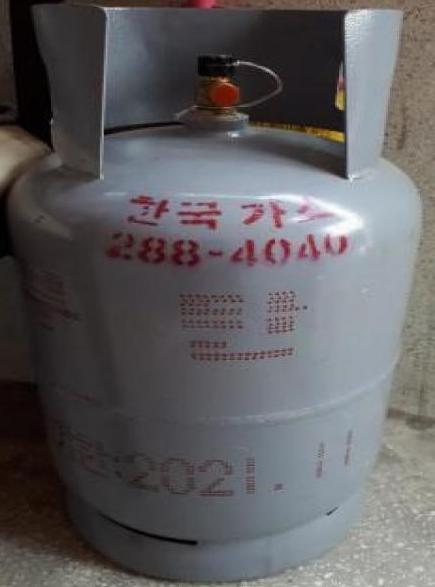cylinder: (0, 1, 435, 587)
